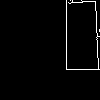N: (25, 24, 73, 64)
